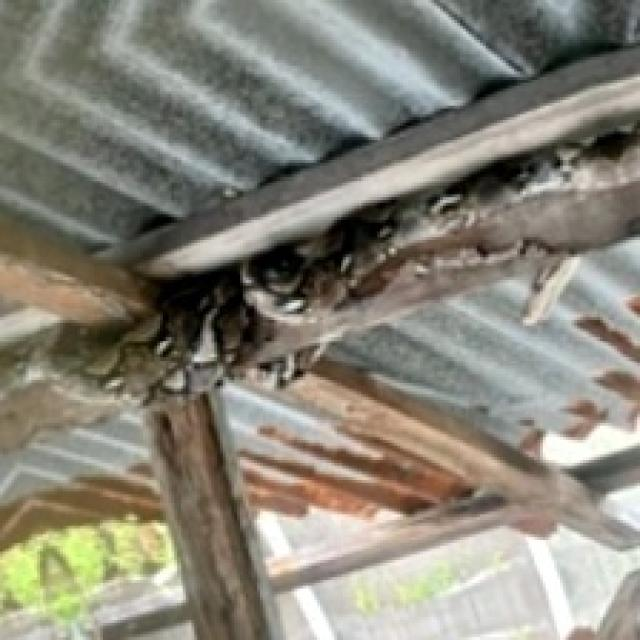reticulated python: (0, 91, 640, 404)
